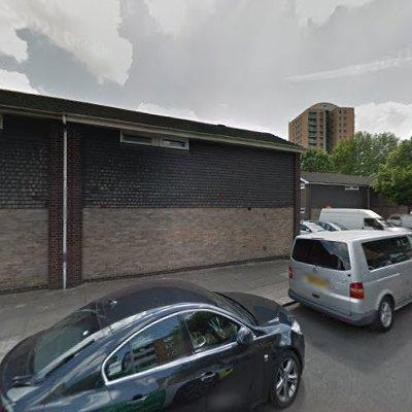stationary-car-offstreet: (306, 218, 350, 232), (384, 211, 412, 229), (298, 220, 328, 234)
stationary-car-onstreet: (0, 272, 304, 410)
stationary-light-truck-offstreet: (318, 206, 392, 230)
stationary-light-truck-onstreet: (285, 227, 411, 333)
